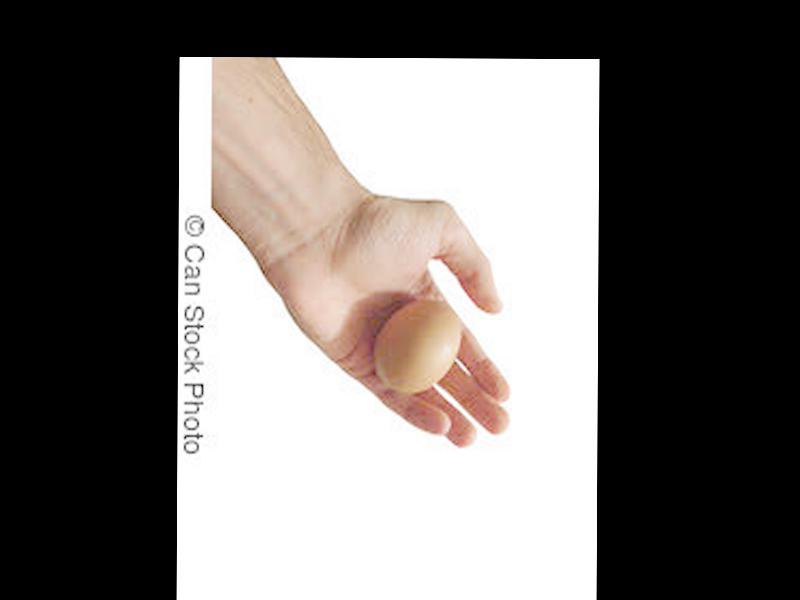Eggs: (375, 303, 457, 394)
